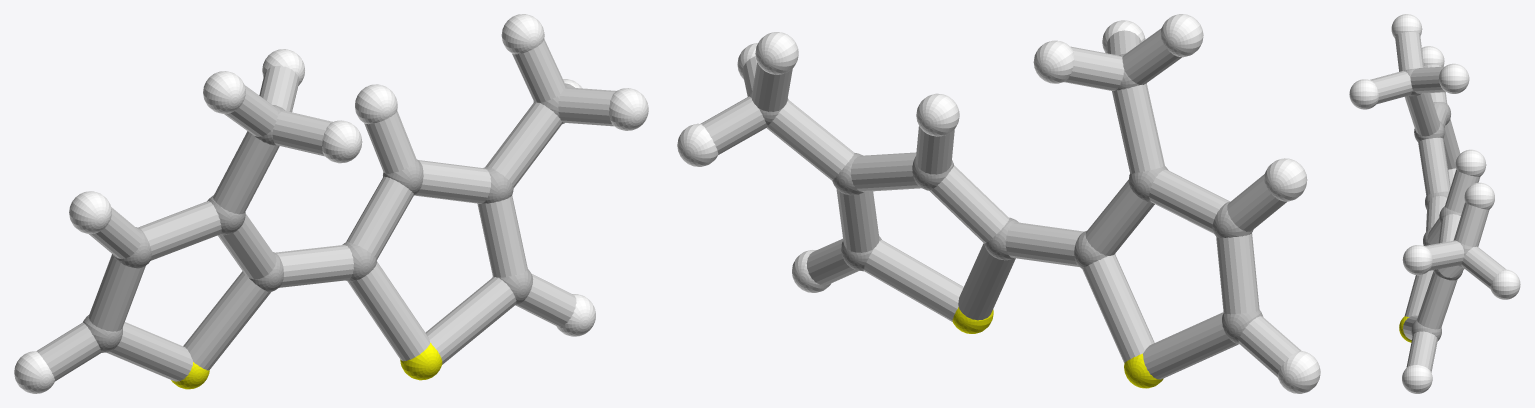
File: color.glb
3 views of the same model, side by side, from view 1: azimuth 30°, elevation 25°; view 2: azimuth 150°, elevation 25°; view 3: azimuth 270°, elevation 25° (orthographic). The views are drawn at different scales.
Visible parts, largest first — view 1: grp7965, grp3621, grp1, grp7241; view 2: grp7965, grp3621, grp1, grp7241; view 3: grp7965, grp3621, grp1.
Part boxes in pixels (box(x1,y1,x2,y2)): grp7965: box(36, 39, 615, 381); grp3621: box(14, 14, 648, 393); grp1: box(83, 86, 566, 352); grp7241: box(171, 342, 442, 389); grp7965: box(700, 28, 1301, 379); grp3621: box(677, 14, 1320, 393); grp1: box(749, 53, 1263, 344); grp7241: box(952, 307, 1163, 388); grp7965: box(1370, 32, 1505, 372); grp3621: box(1349, 14, 1520, 393); grp1: box(1404, 68, 1472, 340).
Size of the model in its own units: 9.67 by 5.52 by 3.34.
